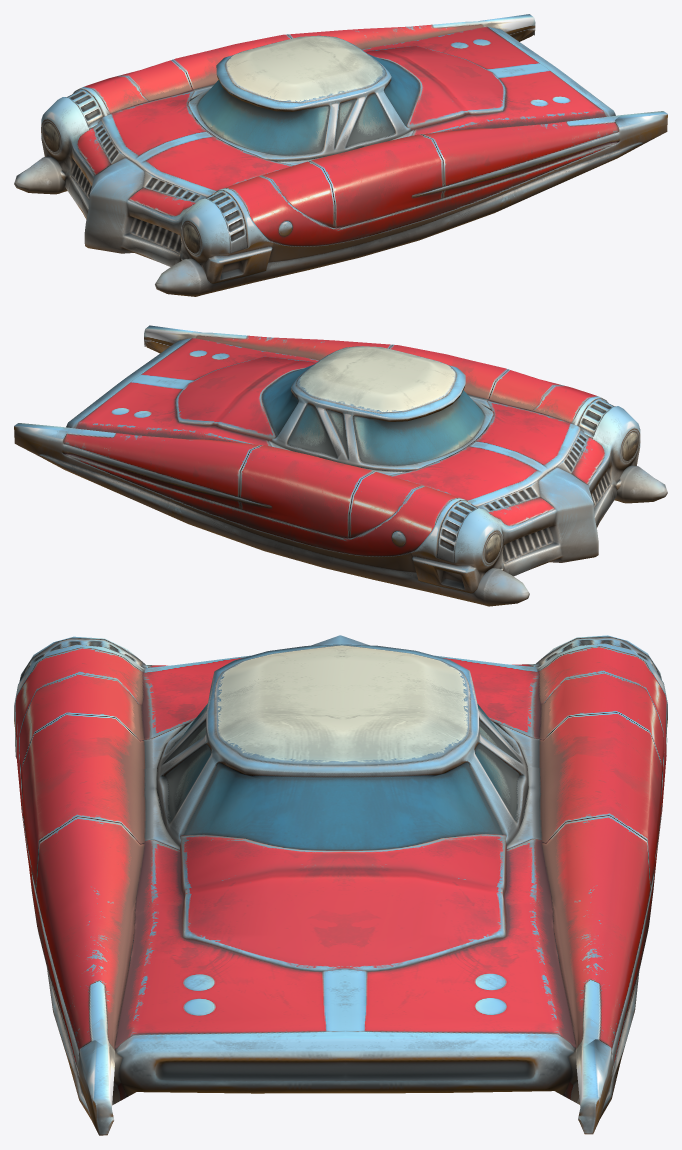
Rendered from race2.glb.
3 renders of one model, top to bottom at view 1: azimuth 30°, elevation 25°; view 2: azimuth 150°, elevation 25°; view 3: azimuth 270°, elevation 25°, orthographic. The views are drawn at different scales.
Parts seen in each view (by area): view 1: default_default_0; view 2: default_default_0; view 3: default_default_0.
Part boxes in pixels (x1,y1,x2,y2): default_default_0: [14, 14, 667, 296]; default_default_0: [14, 325, 667, 606]; default_default_0: [14, 635, 667, 1135].
Size of the model in its own units: 144 by 36.73 by 85.29.
Materials: 1 (1 with a texture image).
